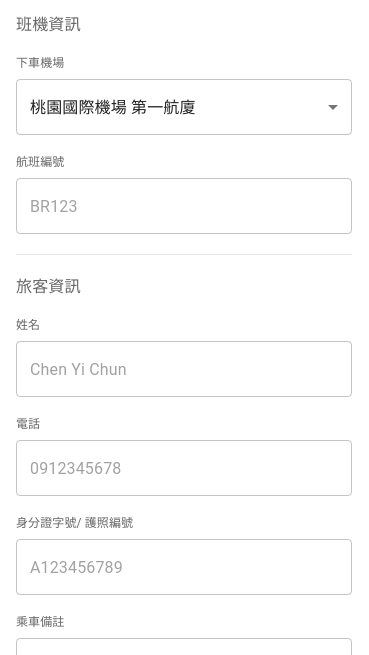
Scenario: Form.Page component › Invalid Input › shows error message when name is not valid
In the field labelled "姓名": x=184, y=369 x1=16 y1=341 x2=352 y2=397, type "123"
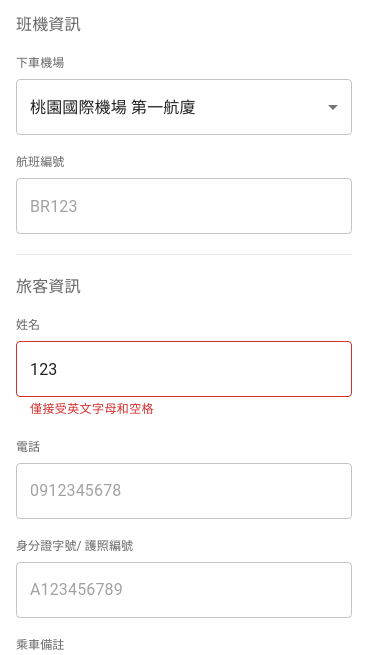
Now the text "僅接受英文字母和空格" is shown, box x1=30 y1=402 x2=154 y2=416
